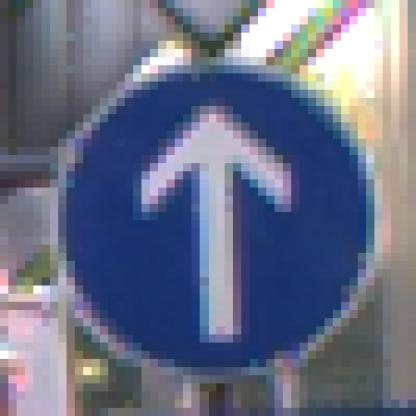AheadOnly: (51, 50, 375, 376)
